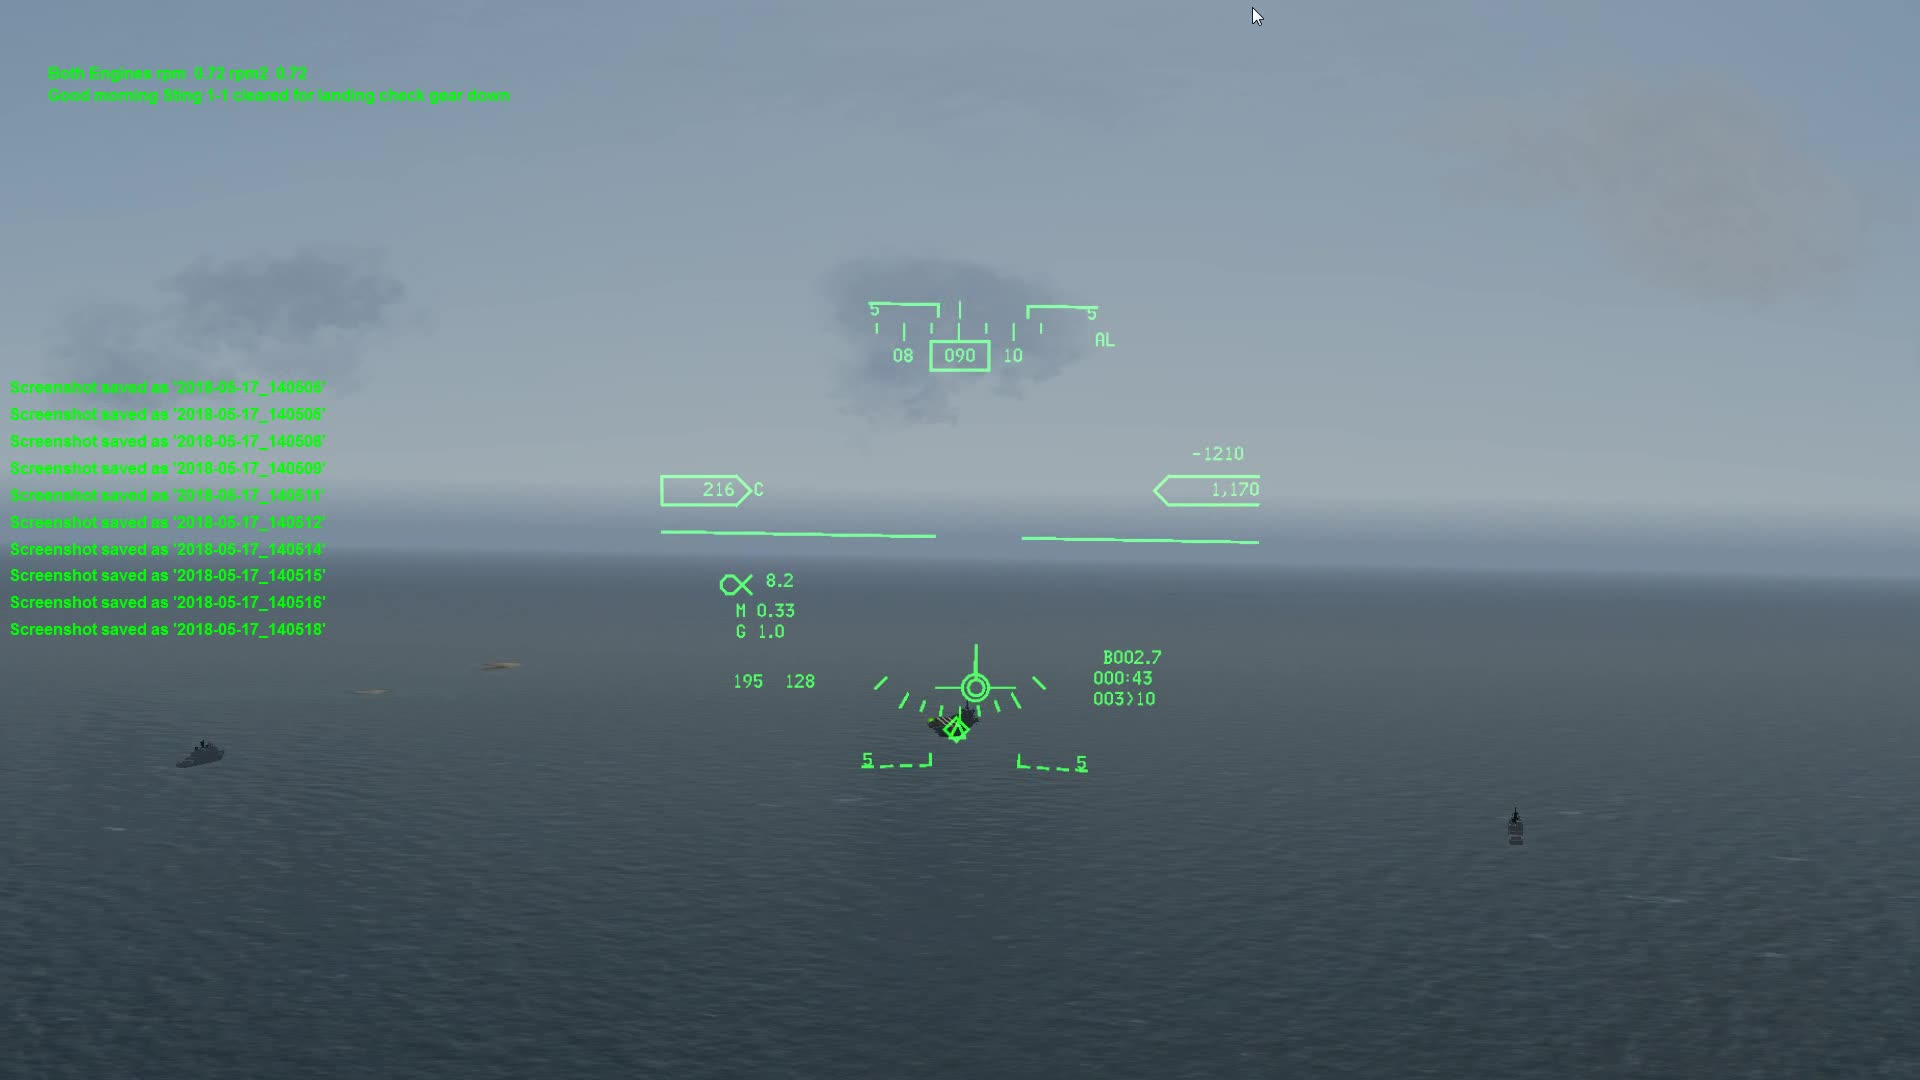speed vector: (930, 645, 1026, 703)
